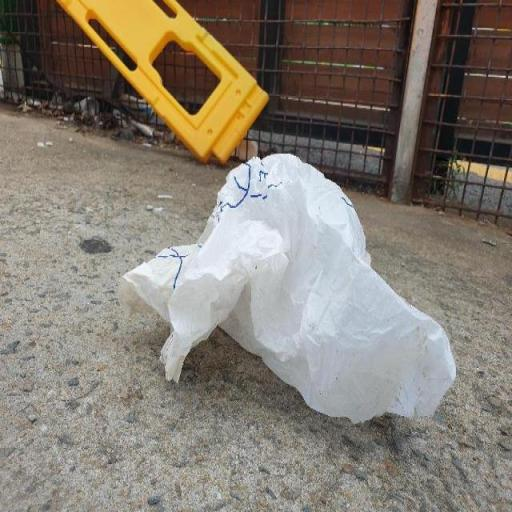plastic-bag: (118, 152, 458, 430)
